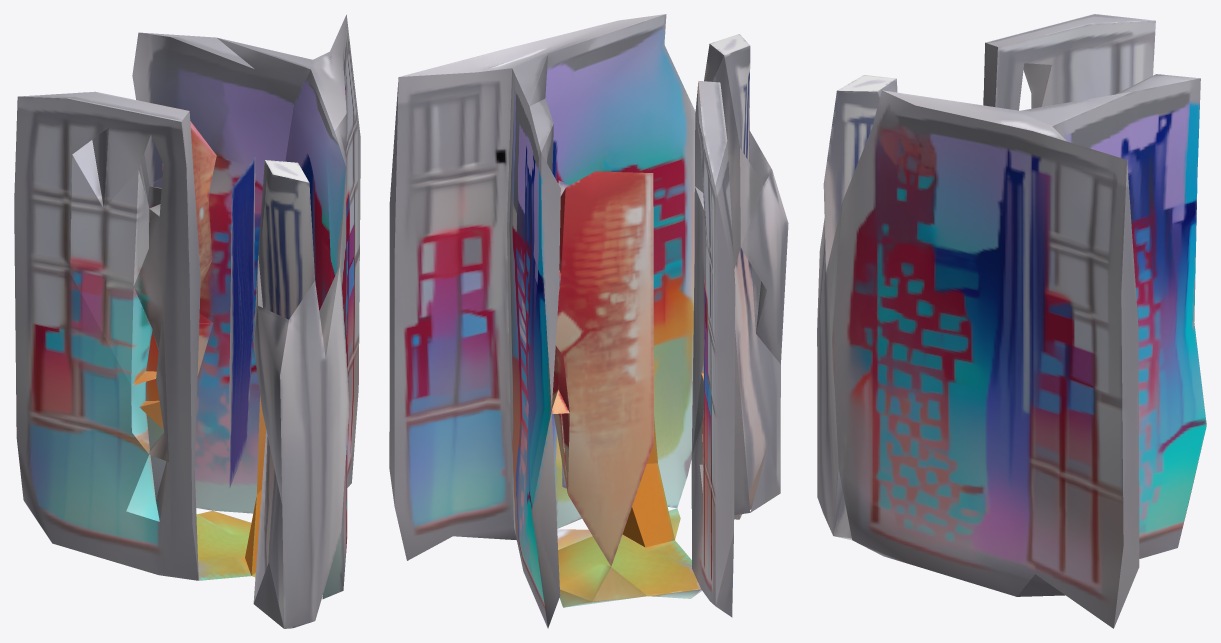
Rendered from neon-shoji-screen.glb.
3 views of the same model, side by side, from view 1: azimuth 30°, elevation 25°; view 2: azimuth 150°, elevation 25°; view 3: azimuth 270°, elevation 25° (orthographic). The views are drawn at different scales.
Visible parts, largest first — view 1: geometry_0; view 2: geometry_0; view 3: geometry_0.
Part boxes in pixels (left/top/right/bottom): geometry_0: left=14, top=14, right=360, bottom=628; geometry_0: left=389, top=14, right=788, bottom=628; geometry_0: left=817, top=14, right=1206, bottom=628.
Bounding box in the file's own units: 0.7374 × 0.9944 × 0.7286.
Materials: 1 (1 with a texture image).
